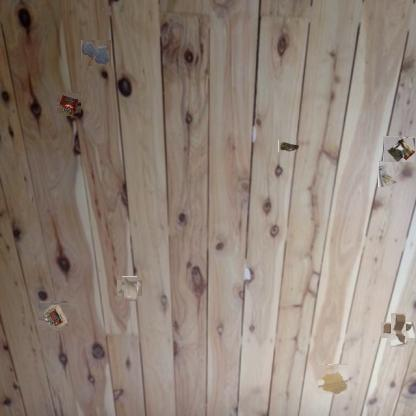dirty: (39, 301, 69, 331), (384, 136, 416, 162), (386, 318, 411, 342), (57, 92, 81, 116), (378, 161, 397, 187), (119, 278, 140, 299), (278, 140, 299, 152)
liquid: (318, 364, 348, 394), (81, 40, 111, 66)
